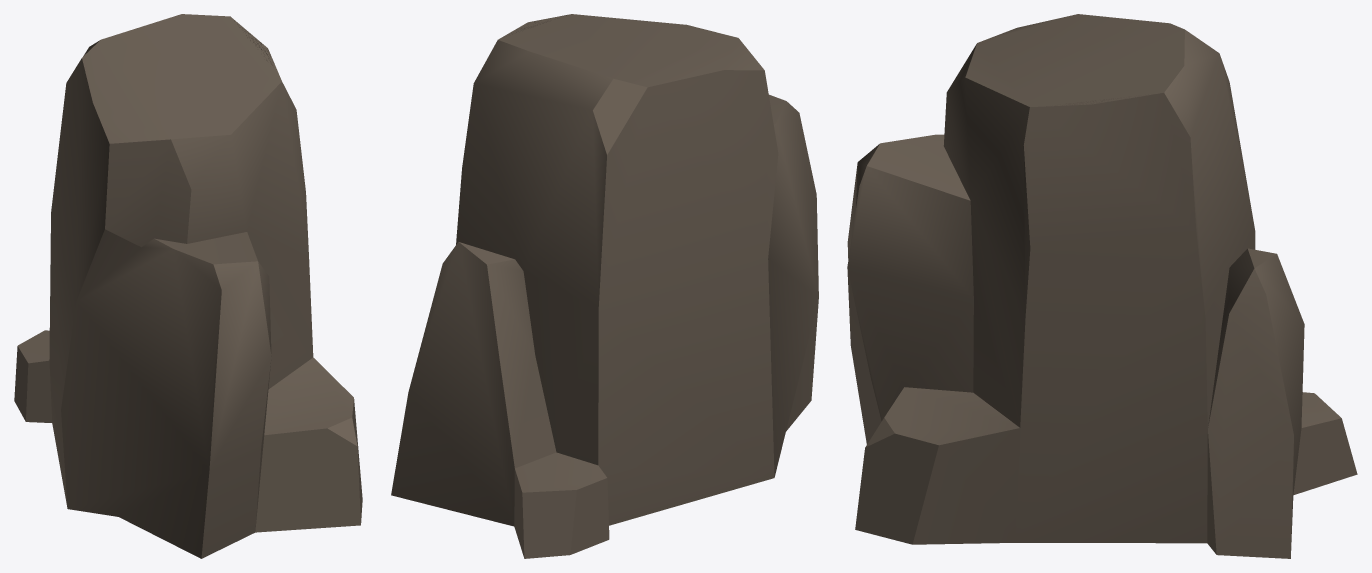
File: stone1.glb
The picture shows the model from 3 angles, left to right: view 1: azimuth 30°, elevation 25°; view 2: azimuth 150°, elevation 25°; view 3: azimuth 270°, elevation 25°; orthographic projection. The views are drawn at different scales.
Visible parts, largest first — view 1: lp2; view 2: lp2; view 3: lp2.
Part boxes in pixels (box(x1,y1,x2,y2)): lp2: box(14, 14, 362, 558); lp2: box(391, 14, 818, 558); lp2: box(847, 14, 1357, 558).
Bounding box in the file's own units: 1.1 × 1.63 × 1.68.
